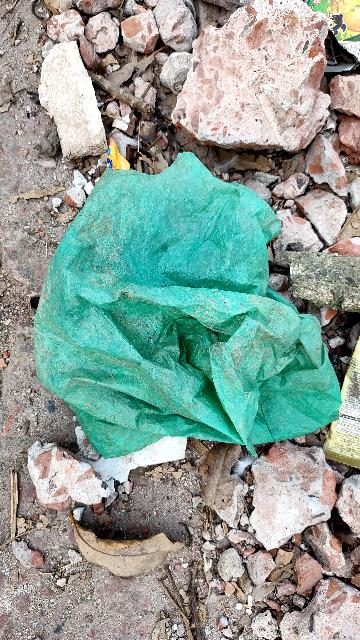polythene: (41, 181, 356, 459)
